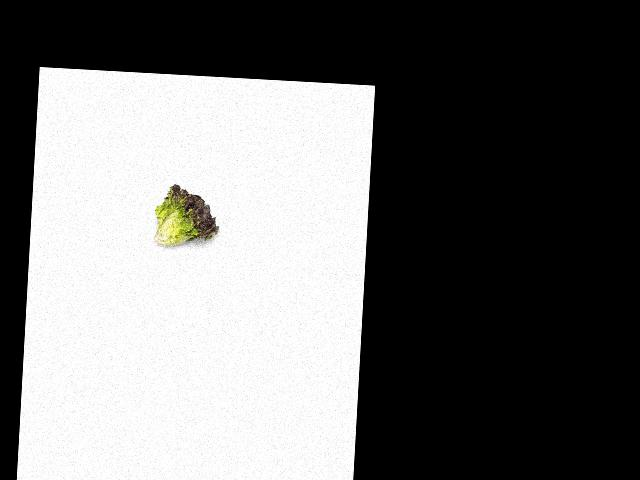lettuce: (150, 184, 225, 249)
